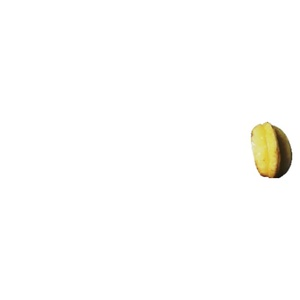carambola: (251, 122, 293, 179)
